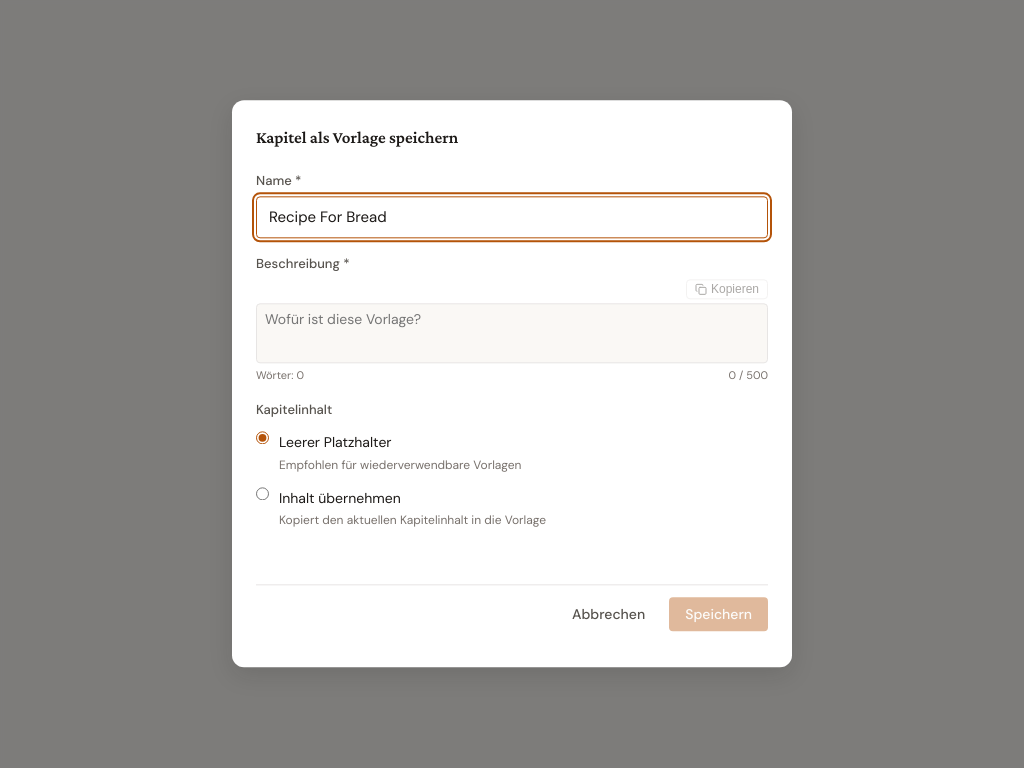
it: SaveAsChapterTemplateModal › 409 renders the inline name_taken error
The image size is (1024, 768).
Type "Duplicate" into the text box with test id "save-chapter-template-description" at x=512, y=333, box [256,303,768,363]
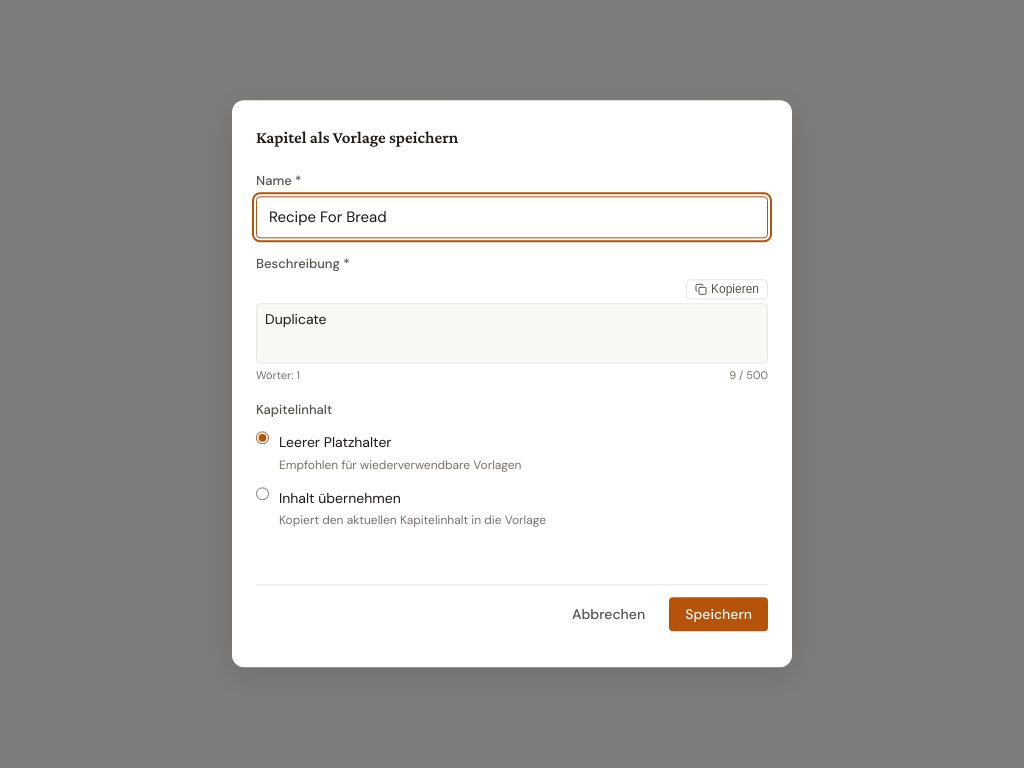
Click the button with test id "save-chapter-template-submit" at x=719, y=615, box [669,598,768,632]
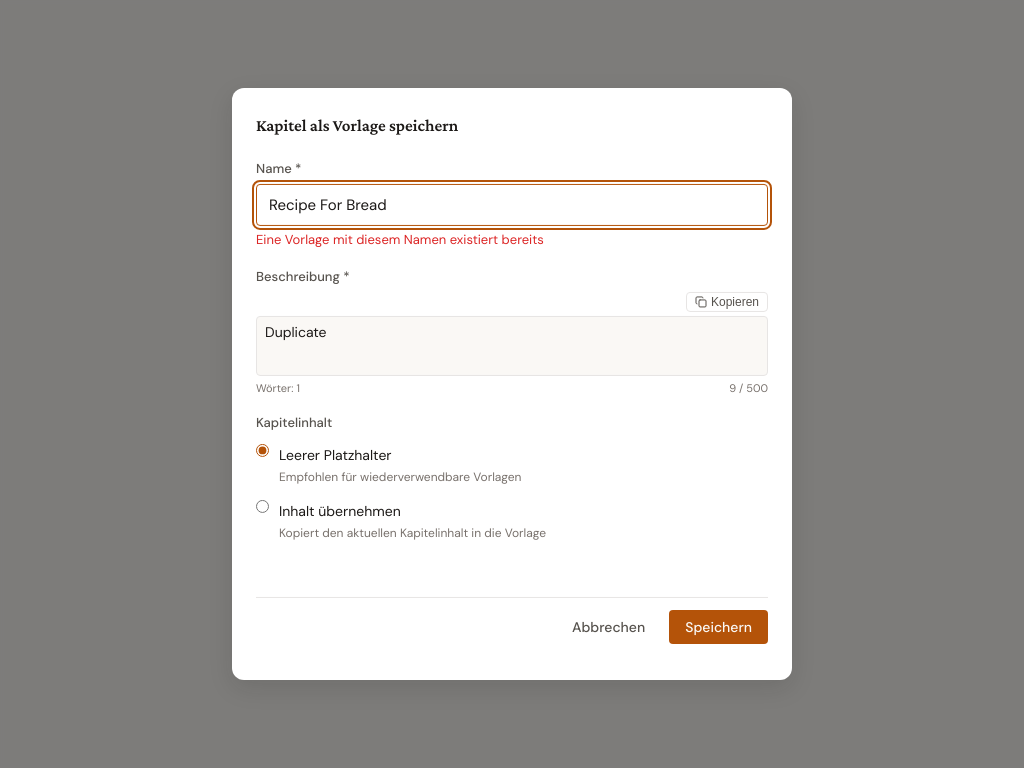
Now the text with test id "save-chapter-template-name-error" shows "existiert bereits", box [256,231,544,248]
